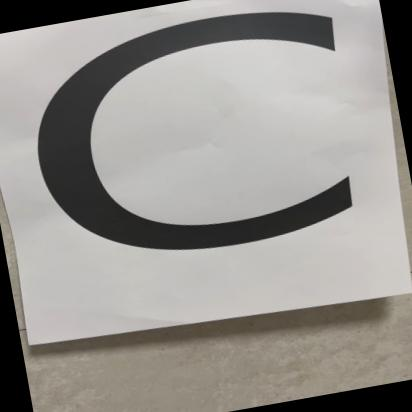seat: (0, 0, 398, 349)
